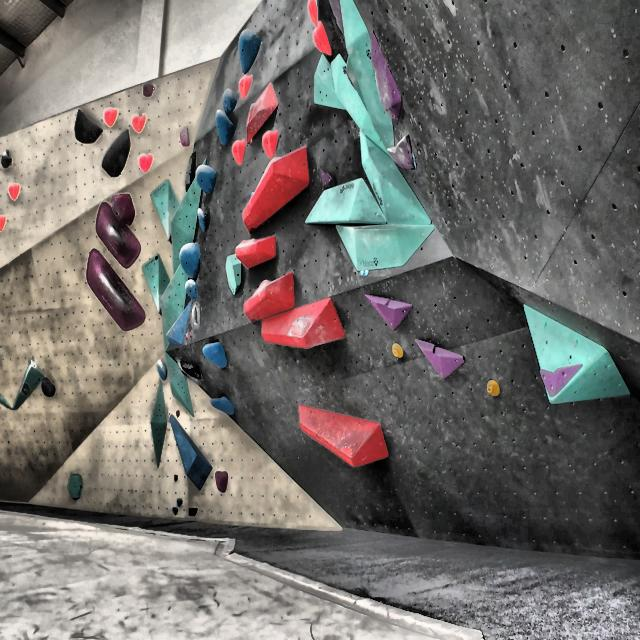Hold: (298, 404, 389, 468), (242, 151, 311, 233), (84, 252, 152, 334), (258, 299, 341, 350), (85, 206, 145, 267), (372, 18, 404, 118), (241, 271, 293, 321), (367, 290, 412, 332), (413, 340, 463, 377), (540, 363, 587, 399), (104, 126, 132, 181), (384, 136, 419, 176), (72, 109, 105, 148), (104, 189, 139, 224), (234, 240, 280, 265), (236, 32, 263, 73), (178, 243, 203, 282), (210, 112, 236, 147), (204, 341, 231, 373), (260, 126, 283, 163), (194, 165, 219, 195), (314, 22, 334, 57), (208, 394, 236, 414), (234, 75, 258, 97), (318, 166, 336, 192), (196, 207, 214, 232), (483, 379, 503, 400), (0, 149, 18, 172), (155, 358, 172, 382), (41, 373, 56, 398), (305, 1, 320, 26), (138, 81, 156, 101), (175, 128, 192, 149), (183, 281, 200, 301), (217, 469, 230, 495), (224, 88, 238, 112), (390, 342, 409, 359), (9, 179, 24, 200), (232, 138, 243, 164), (0, 215, 9, 231)
